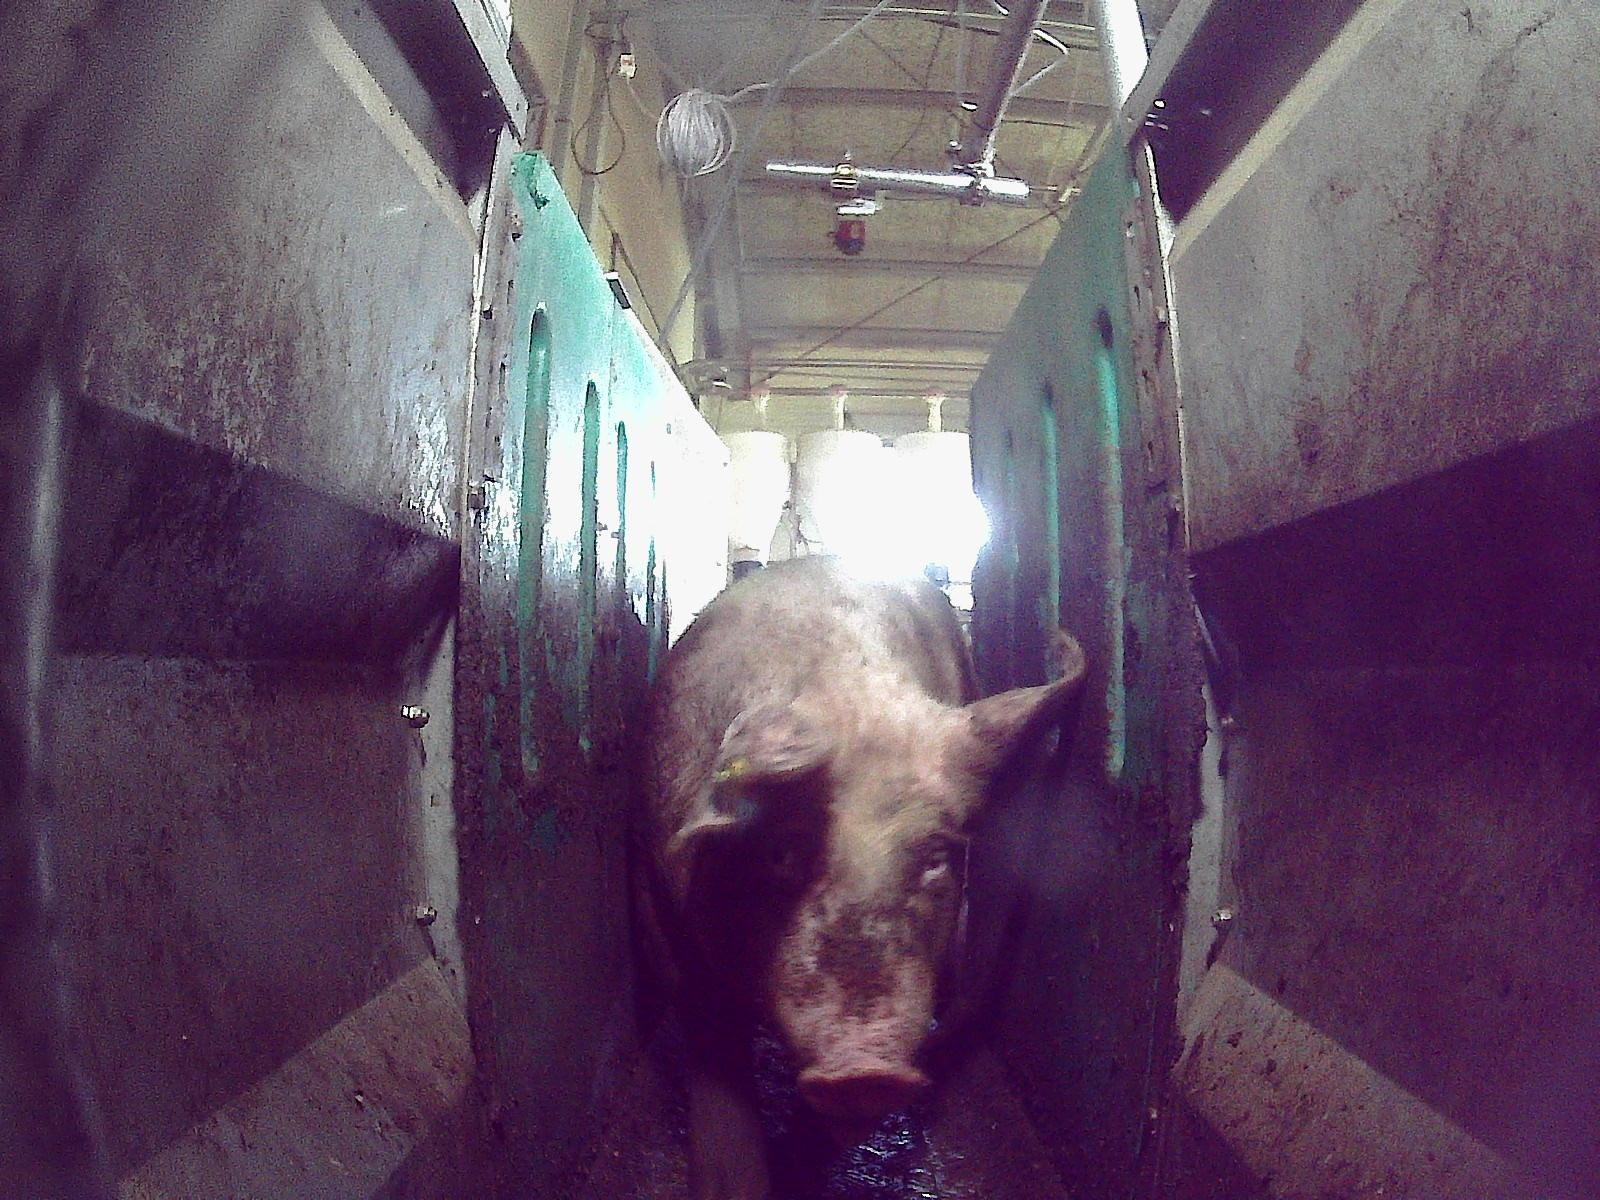Face: (704, 707, 967, 1113)
